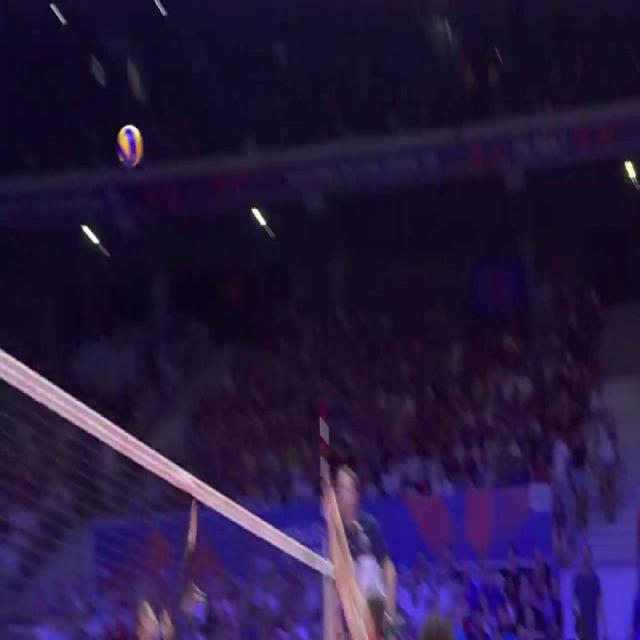volleyball: (117, 124, 142, 168)
